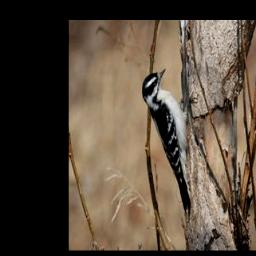Woodpecker: (141, 68, 198, 219)
